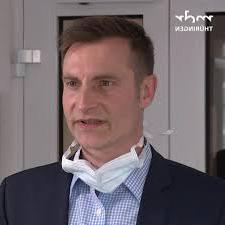mask_weared_incorrect: (61, 60, 129, 177)
